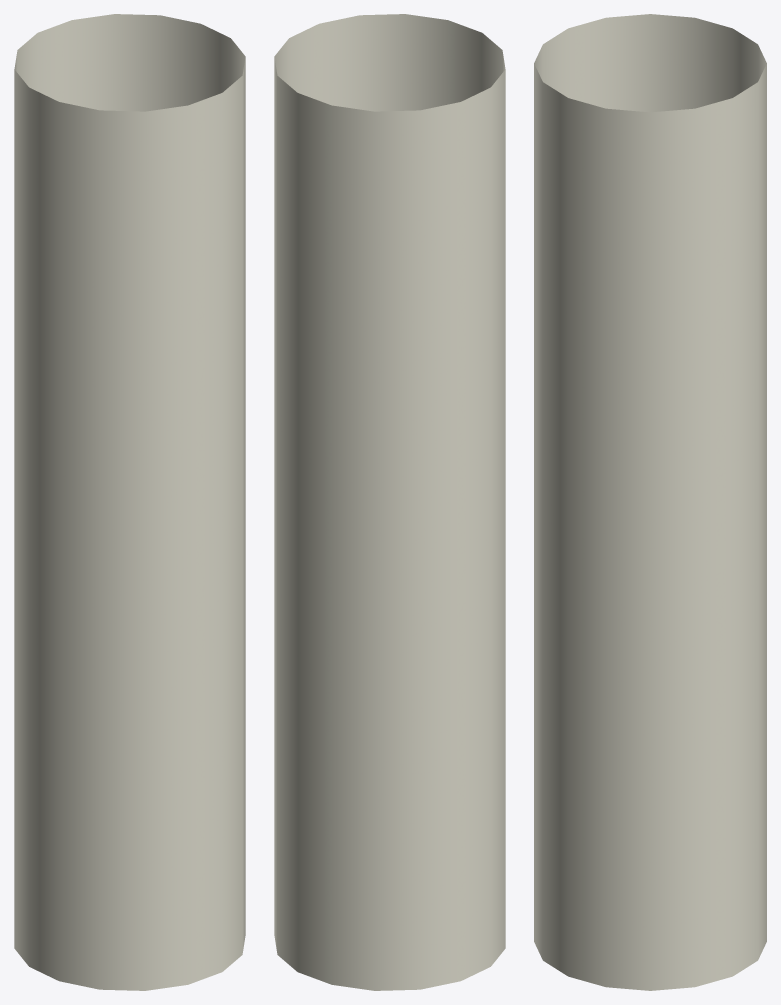
3 views of the same model, side by side, from view 1: azimuth 30°, elevation 25°; view 2: azimuth 150°, elevation 25°; view 3: azimuth 270°, elevation 25° (orthographic).
Visible parts, largest first — view 1: pCylinder34; view 2: pCylinder34; view 3: pCylinder34.
Part boxes in pixels (<box>): pCylinder34: <box>14,14,245,990</box>; pCylinder34: <box>274,14,505,990</box>; pCylinder34: <box>534,14,766,990</box>.
Size of the model in its own units: 2 by 8.33 by 2.
Materials: 1 (1 with a texture image).
